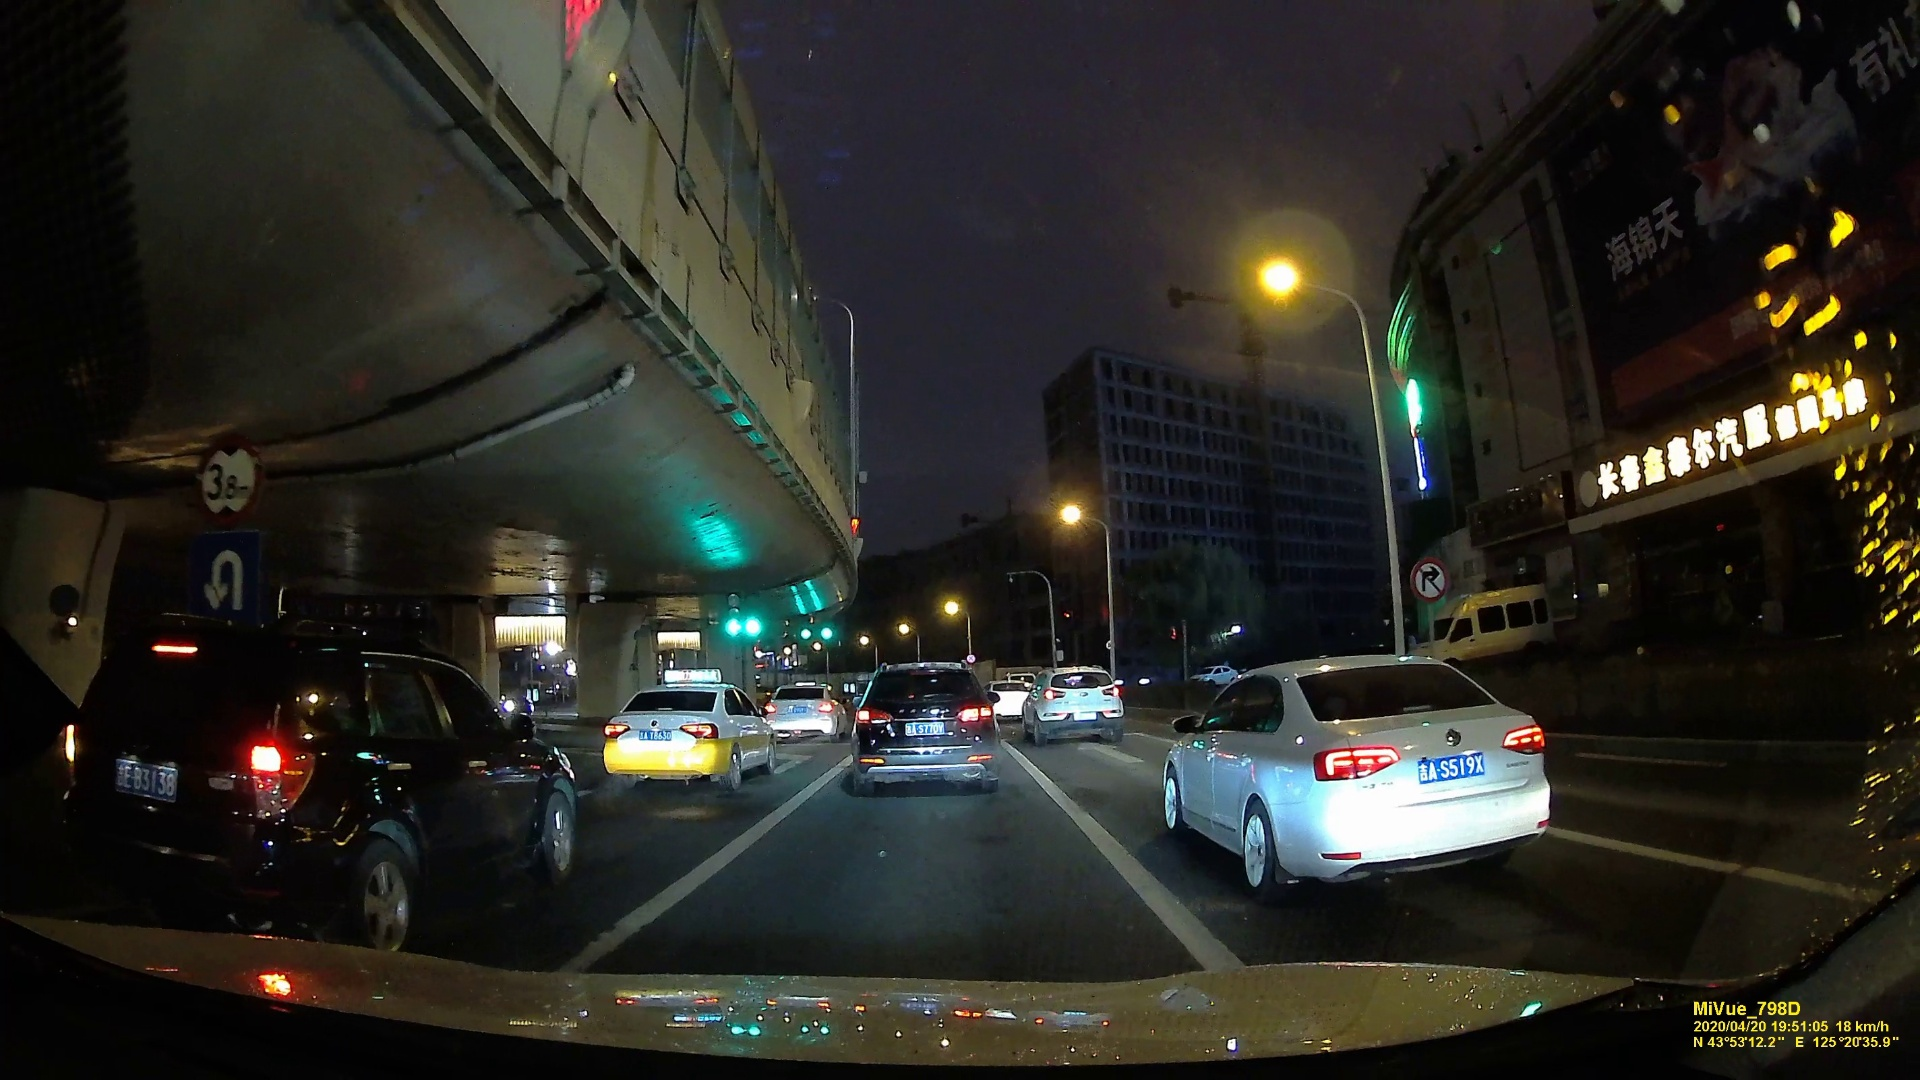minibus: (1419, 585, 1553, 657)
traffic_sign: (198, 444, 258, 526), (1412, 556, 1447, 597), (725, 595, 741, 636), (744, 600, 761, 636), (820, 615, 833, 641), (800, 617, 812, 641)
vehicle: (57, 628, 578, 968), (1153, 650, 1560, 902), (845, 662, 1004, 800), (599, 679, 777, 793), (1017, 666, 1126, 742), (767, 684, 849, 740)
